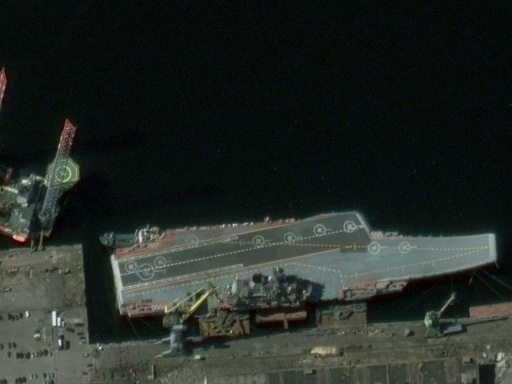ship: (105, 197, 500, 318)
